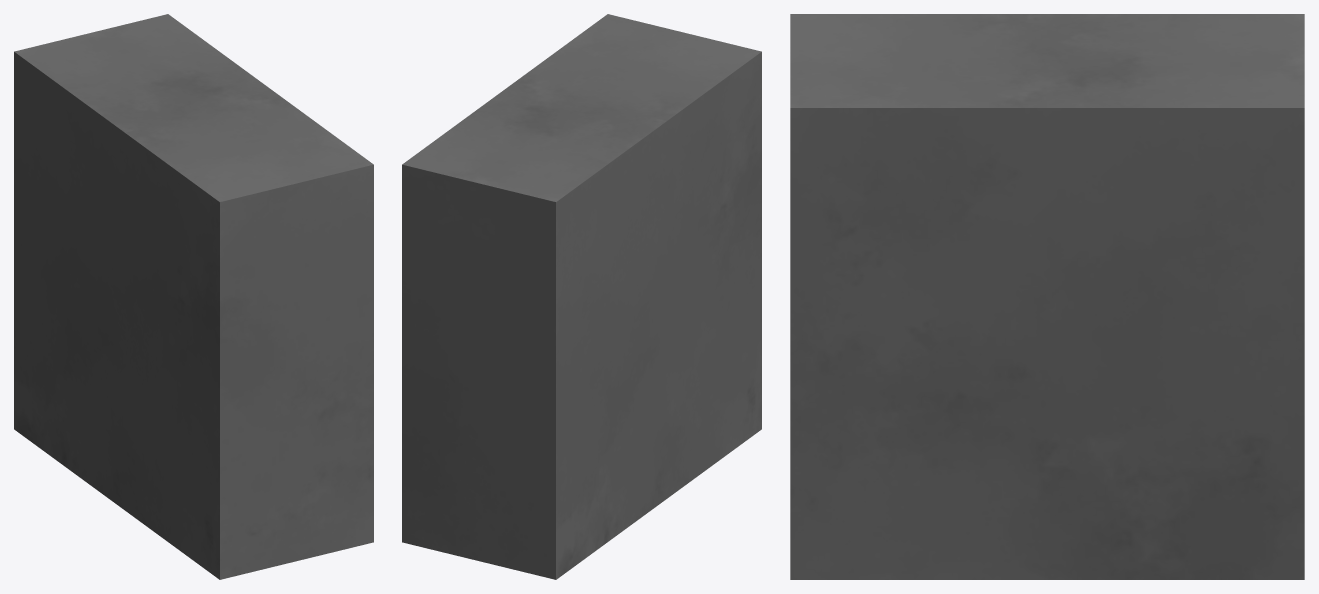
File: BgMD_Building_08_01.fbx
The picture shows the model from 3 angles, left to right: view 1: azimuth 30°, elevation 25°; view 2: azimuth 150°, elevation 25°; view 3: azimuth 270°, elevation 25°; orthographic projection. The views are drawn at different scales.
Parts seen in each view (by area): view 1: pCube158; view 2: pCube158; view 3: pCube158.
Part boxes in pixels (<box>): pCube158: <box>14,14,373,579</box>; pCube158: <box>402,14,761,579</box>; pCube158: <box>790,14,1304,579</box>.
Size of the model in its own units: 1112 by 2605 by 2573.
